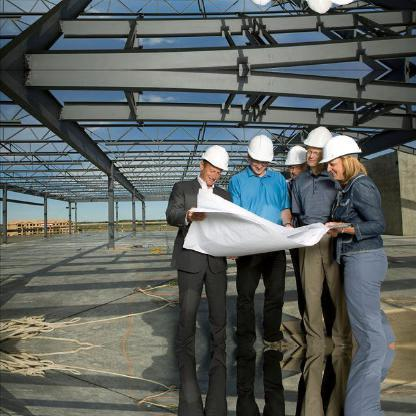helmet: (320, 136, 361, 165), (246, 134, 281, 165), (200, 142, 232, 172), (301, 126, 332, 147), (281, 143, 308, 166)
